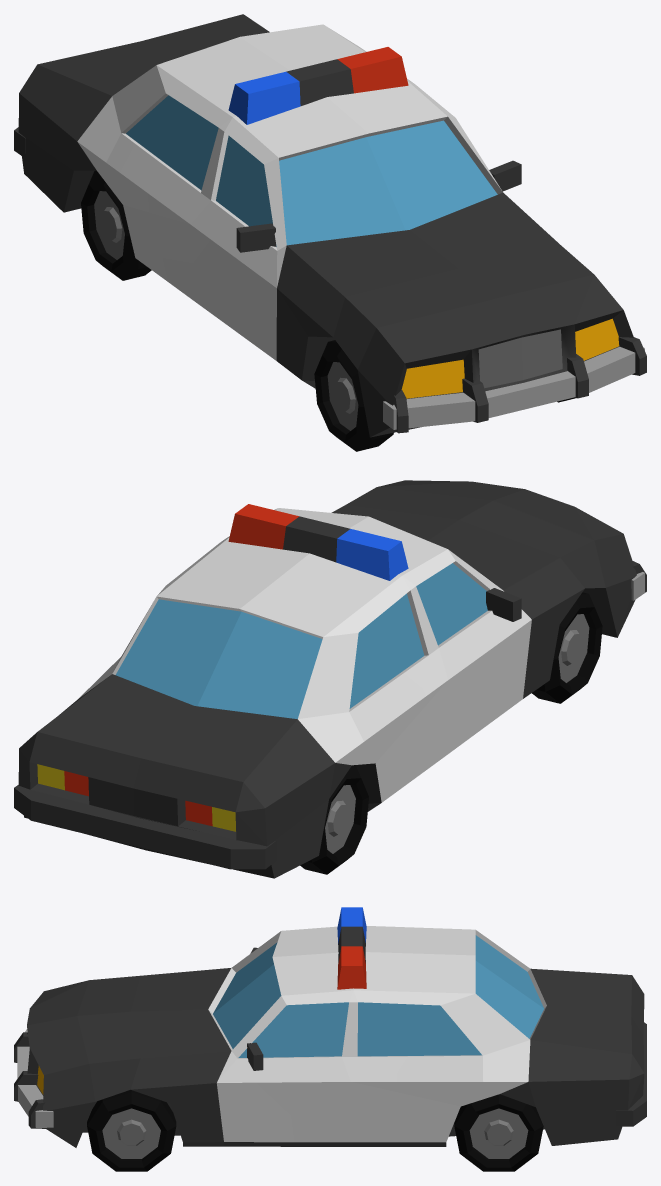
The model's file is car-3.fbx.
The picture shows the model from 3 angles, top to bottom: view 1: azimuth 30°, elevation 25°; view 2: azimuth 150°, elevation 25°; view 3: azimuth 270°, elevation 25°; orthographic projection. The views are drawn at different scales.
Parts seen in each view (by area): view 1: Policecar, WheelP-1, WheelP-2; view 2: Policecar, WheelP-1, WheelP-2; view 3: Policecar, WheelP-4, WheelP-3.
Boxes of the visible parts, <box> form: Policecar: <box>14,14,646,437</box>; WheelP-1: <box>314,340,393,451</box>; WheelP-2: <box>81,170,151,280</box>; Policecar: <box>14,480,646,878</box>; WheelP-1: <box>532,592,602,703</box>; WheelP-2: <box>300,765,368,874</box>; Policecar: <box>14,907,646,1147</box>; WheelP-4: <box>87,1089,176,1171</box>; WheelP-3: <box>454,1094,543,1171</box>.
Size of the model in its own units: 375 by 312 by 930.
